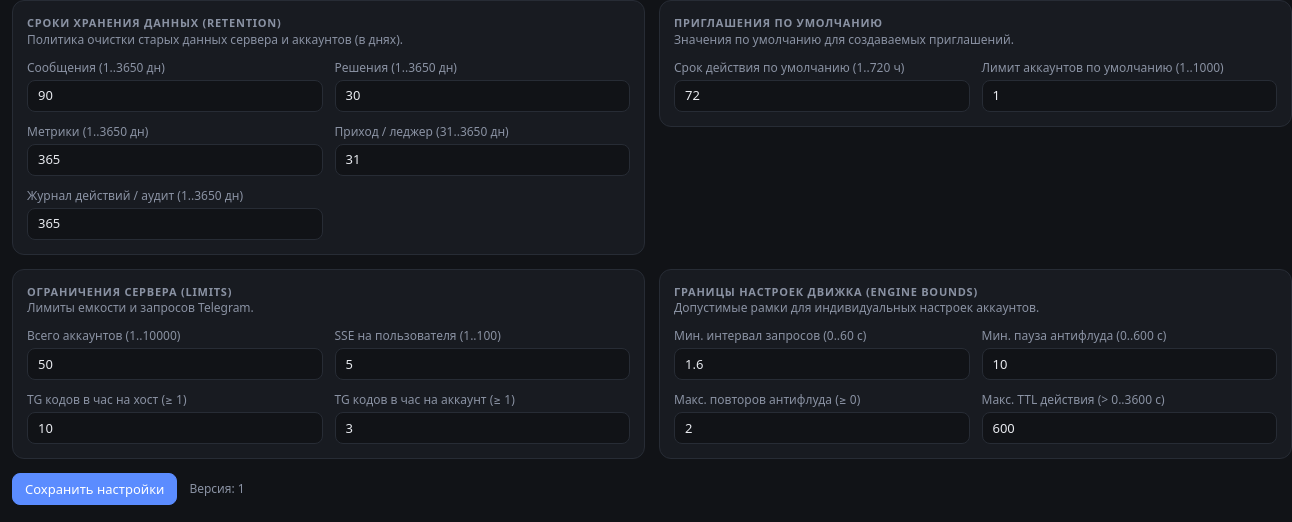
Консоль владельца › настройки сервера: успешный PATCH с version, changes и X-CSRF-Token
Step 1. Replace the text in the number field showing "90" with "100" → (175, 96), box 27,80 -> 322,112
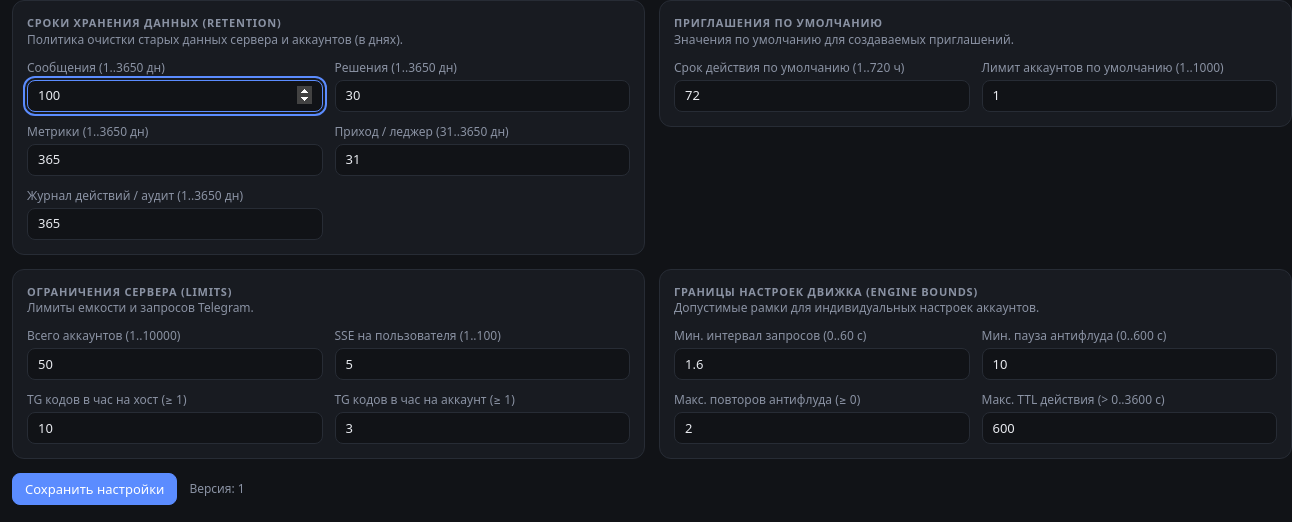
Step 2. Click the button "Сохранить настройки" → (95, 489), box 12,473 -> 177,505
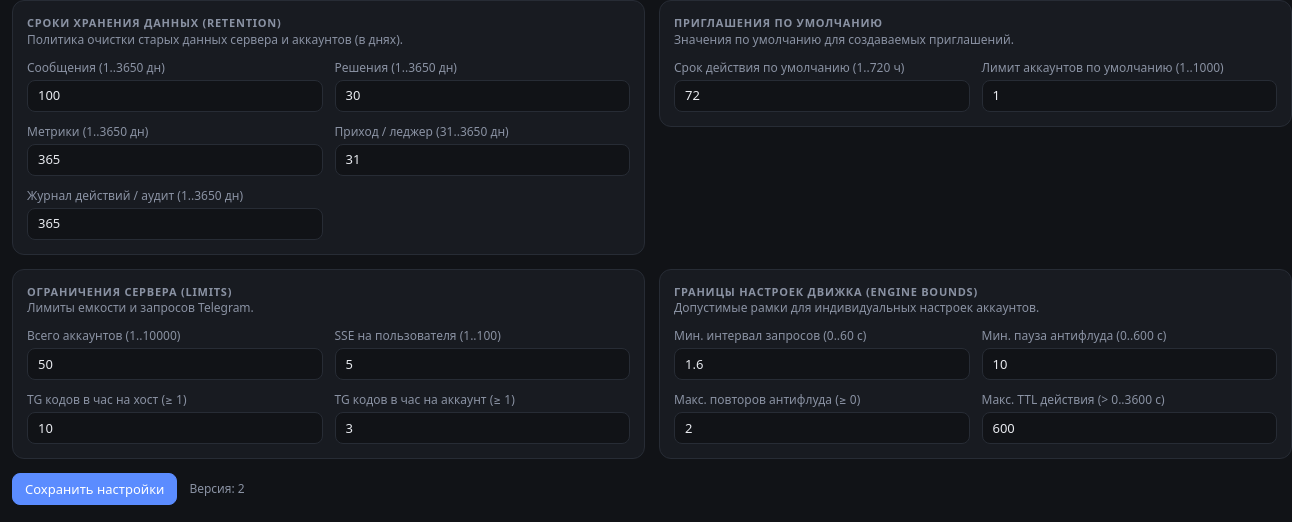
Now the text "Версия: 2" is shown, box 189,481 -> 245,497
